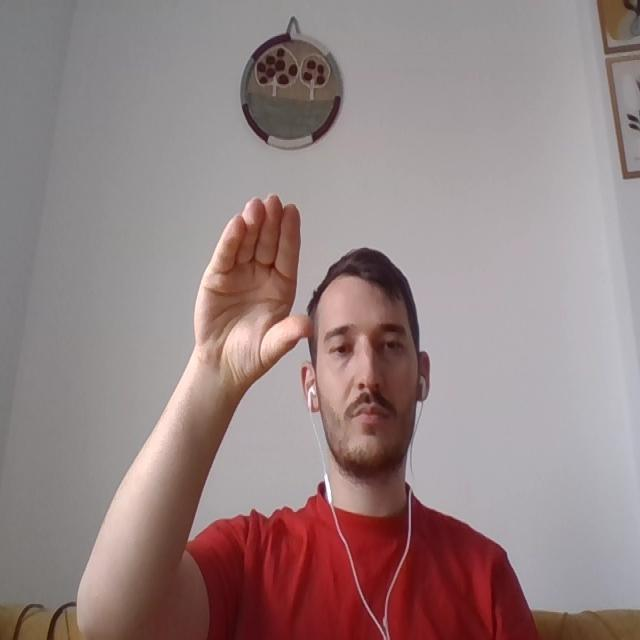no: (200, 206, 304, 370)
